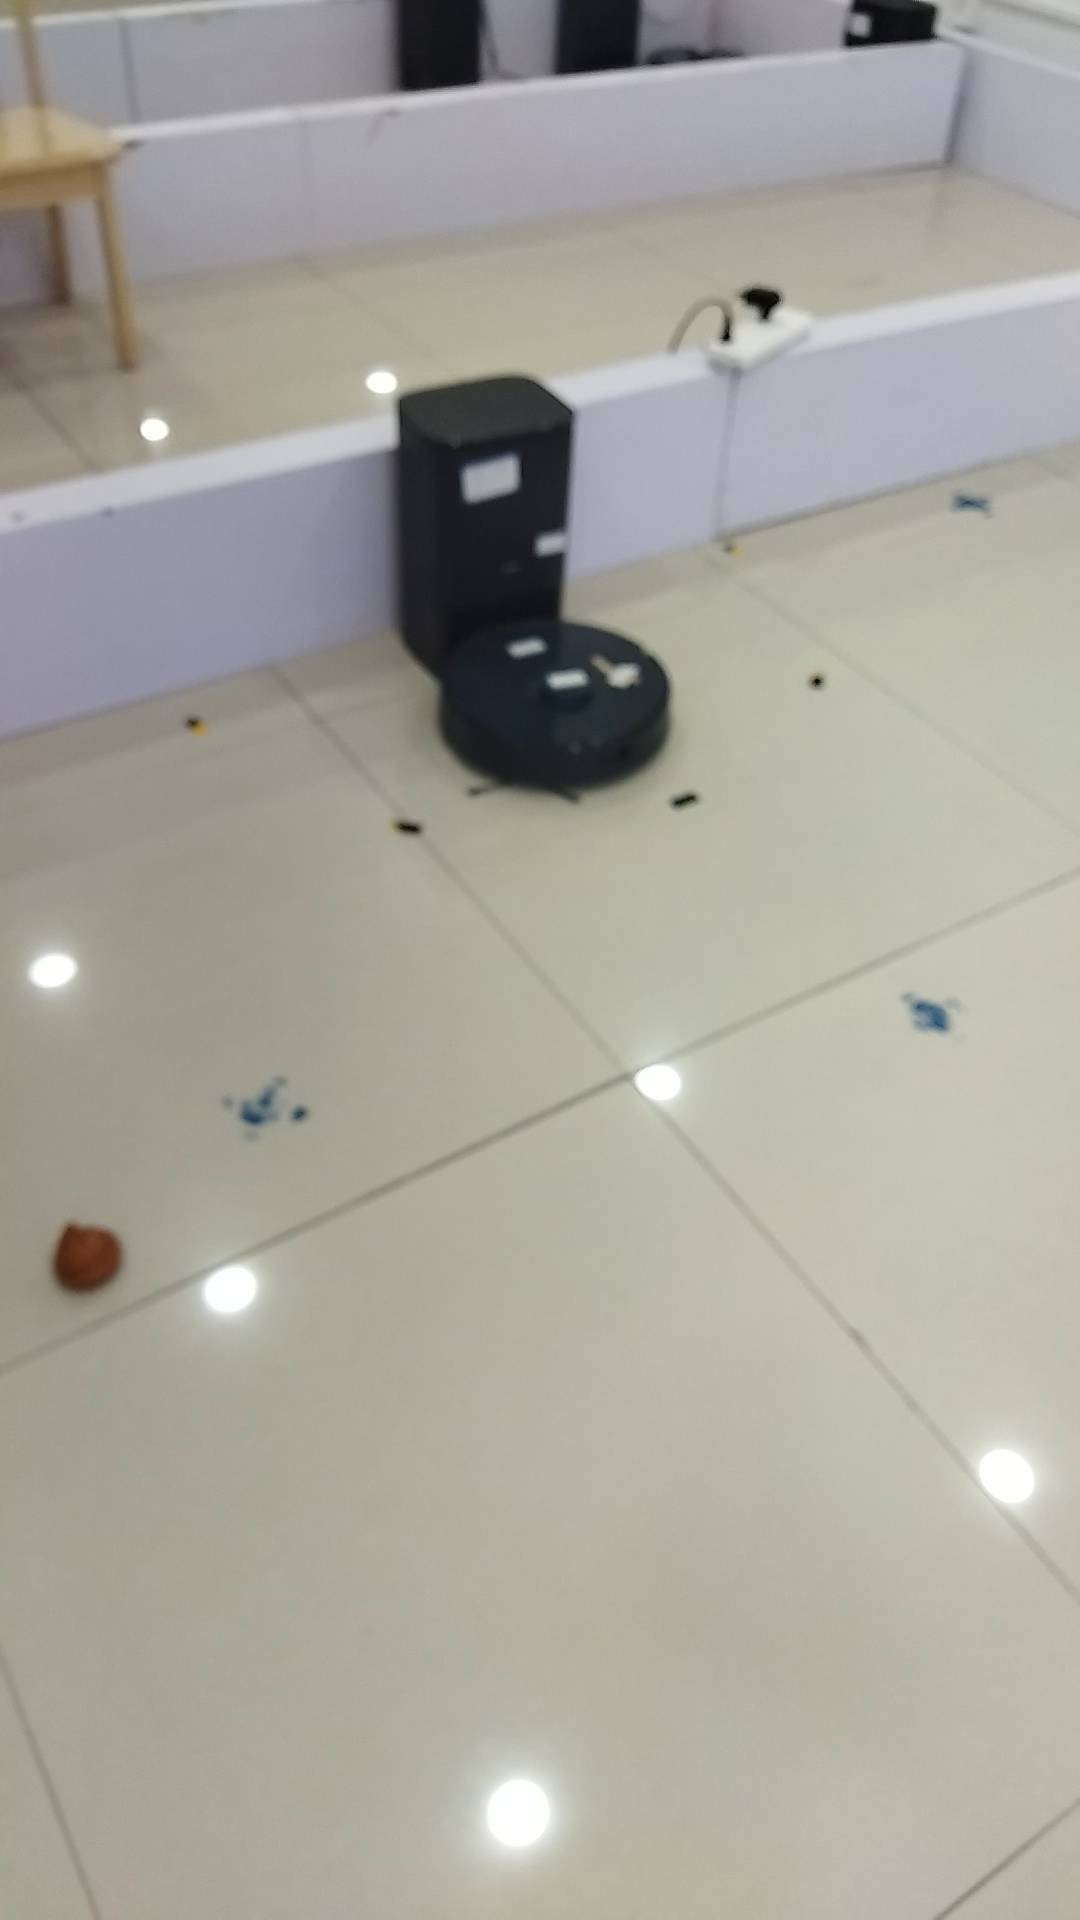dust collecting barrel: (392, 375, 574, 678)
